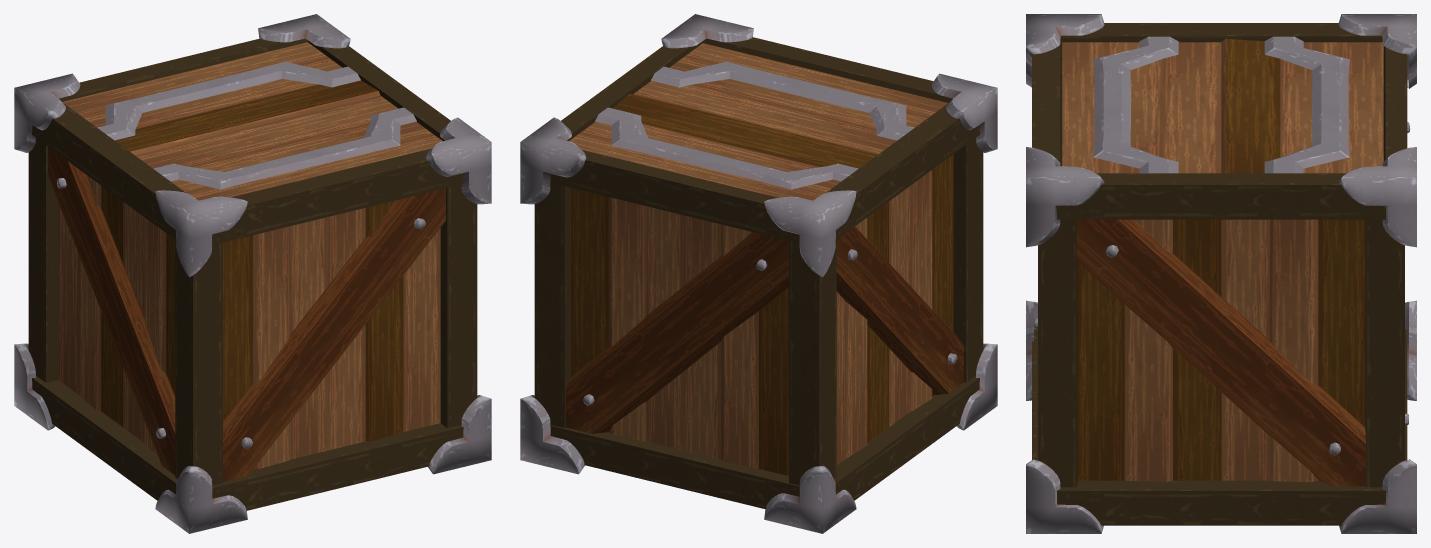
File: Crate_Metal.gltf
3 views of the same model, side by side, from view 1: azimuth 30°, elevation 25°; view 2: azimuth 150°, elevation 25°; view 3: azimuth 270°, elevation 25° (orthographic). The views are drawn at different scales.
Parts seen in each view (by area): view 1: Crate_Metal; view 2: Crate_Metal; view 3: Crate_Metal.
Part boxes in pixels (x1,y1,x2,y2): Crate_Metal: [14, 14, 491, 533]; Crate_Metal: [520, 14, 997, 533]; Crate_Metal: [1026, 14, 1416, 533].
Size of the model in its own units: 0.8639 by 0.8679 by 0.8659.
2 materials, 2 textured.
